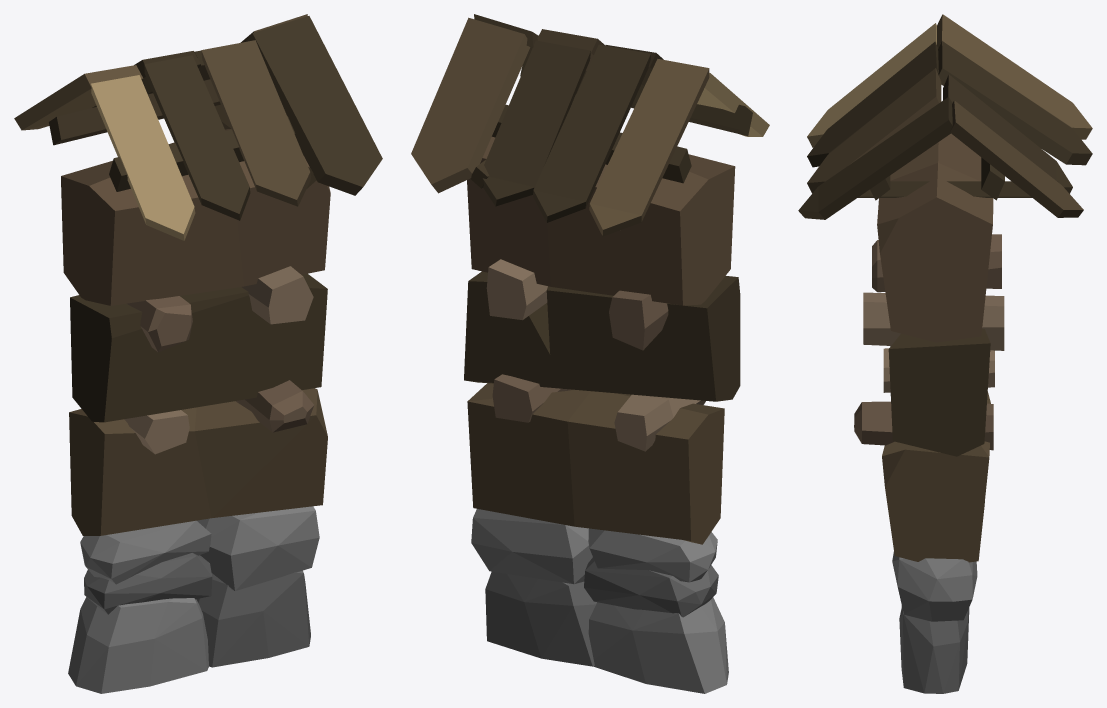
File: EA03_Fence_Wall_01d.glb
The picture shows the model from 3 angles, left to right: view 1: azimuth 30°, elevation 25°; view 2: azimuth 150°, elevation 25°; view 3: azimuth 270°, elevation 25°; orthographic projection. The views are drawn at different scales.
Visible parts, largest first — view 1: EA03_Fence_Wall_01d; view 2: EA03_Fence_Wall_01d; view 3: EA03_Fence_Wall_01d.
Boxes of the visible parts, left/top/right/bottom form: EA03_Fence_Wall_01d: left=14, top=14, right=382, bottom=693; EA03_Fence_Wall_01d: left=411, top=14, right=769, bottom=693; EA03_Fence_Wall_01d: left=798, top=14, right=1092, bottom=693.
Bounding box in the file's own units: 1.5 × 3.54 × 1.63.
Materials: 1 (1 with a texture image).
